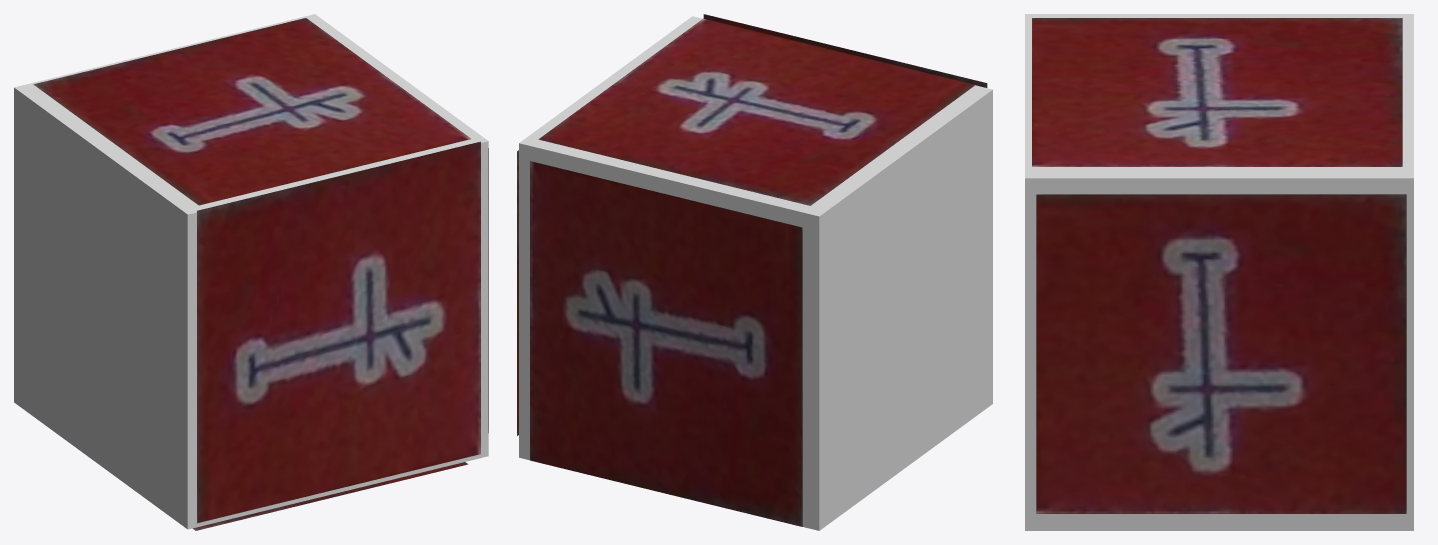
3 views of the same model, side by side, from view 1: azimuth 30°, elevation 25°; view 2: azimuth 150°, elevation 25°; view 3: azimuth 270°, elevation 25° (orthographic). The views are drawn at different scales.
Parts seen in each view (by area): view 1: R2.001, Link33, R2, R2.003; view 2: R2.004, Link33, R2, R2.001, R2.002; view 3: R2.002, R2, Link33.
Boxes of the visible parts, x1=… form: R2.001: x1=197, y1=141, x2=480, y2=523; Link33: x1=14, y1=14, x2=488, y2=529; R2: x1=33, y1=18, x2=470, y2=205; R2.003: x1=192, y1=462, x2=468, y2=530; R2.004: x1=530, y1=161, x2=802, y2=526; Link33: x1=519, y1=16, x2=992, y2=530; R2: x1=538, y1=18, x2=975, y2=205; R2.001: x1=703, y1=14, x2=987, y2=87; R2.002: x1=517, y1=150, x2=518, y2=435; R2.002: x1=1036, y1=194, x2=1406, y2=513; R2: x1=1032, y1=18, x2=1402, y2=166; Link33: x1=1025, y1=14, x2=1413, y2=530.
Size of the model in its own units: 0.356 by 0.3623 by 0.3583.
1 material, 1 textured.
